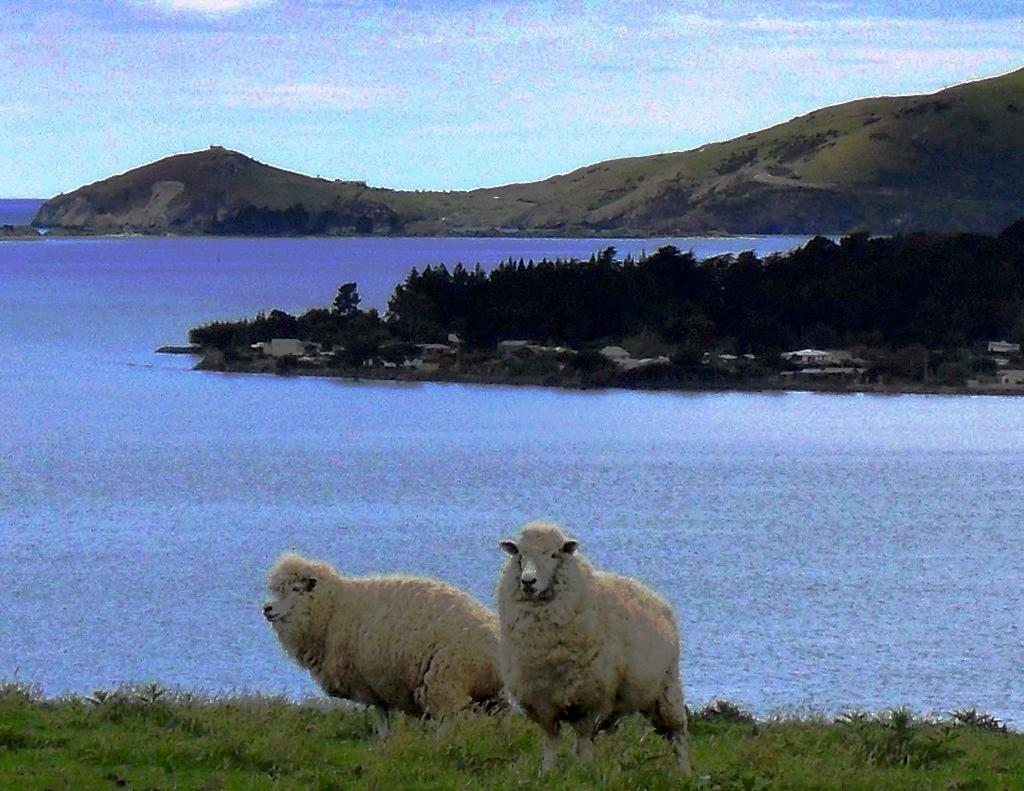Sheep: (498, 520, 686, 776), (264, 555, 500, 729)
